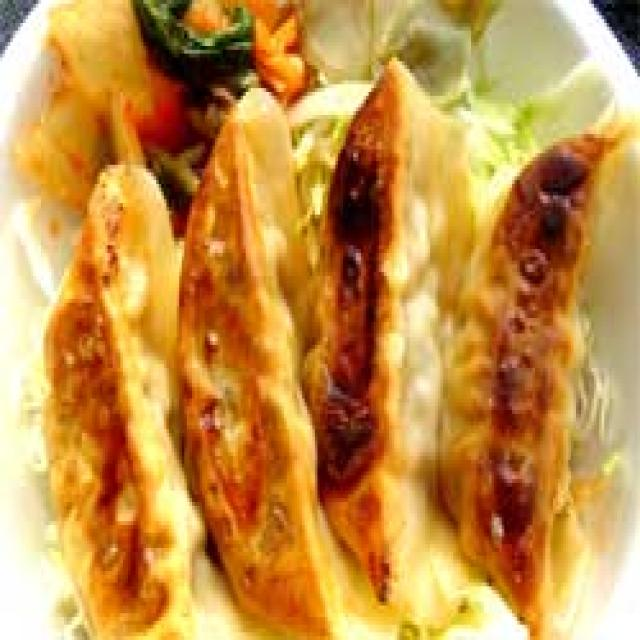带馅早点: (18, 0, 627, 640)
